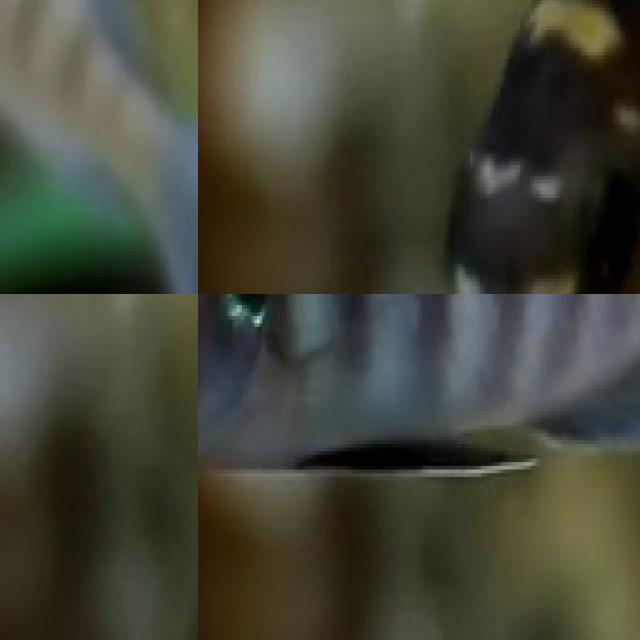fish: (198, 294, 640, 480), (407, 0, 640, 294), (0, 0, 198, 294)
